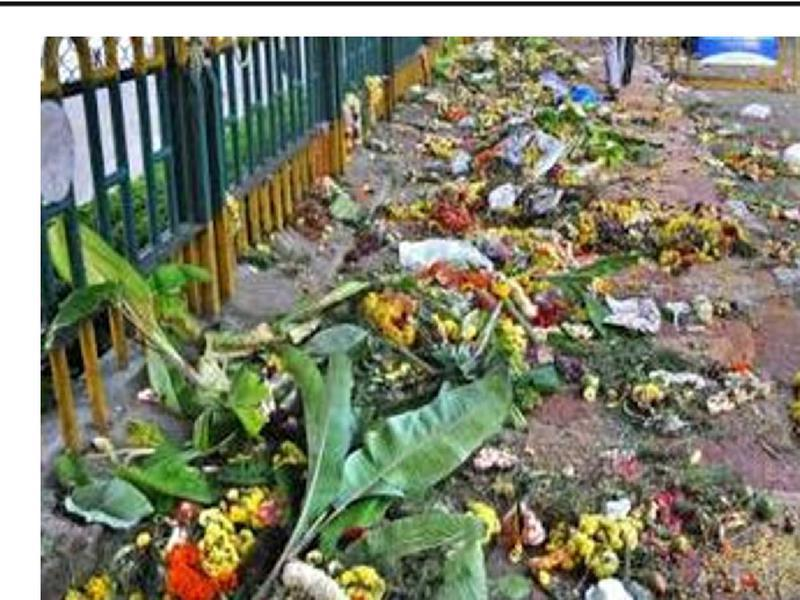flowers: (511, 484, 683, 591), (583, 193, 761, 278), (360, 291, 541, 374), (155, 481, 279, 600), (480, 220, 583, 271)
leaf: (332, 370, 518, 510), (261, 336, 359, 552), (44, 276, 125, 350), (56, 479, 153, 537)
